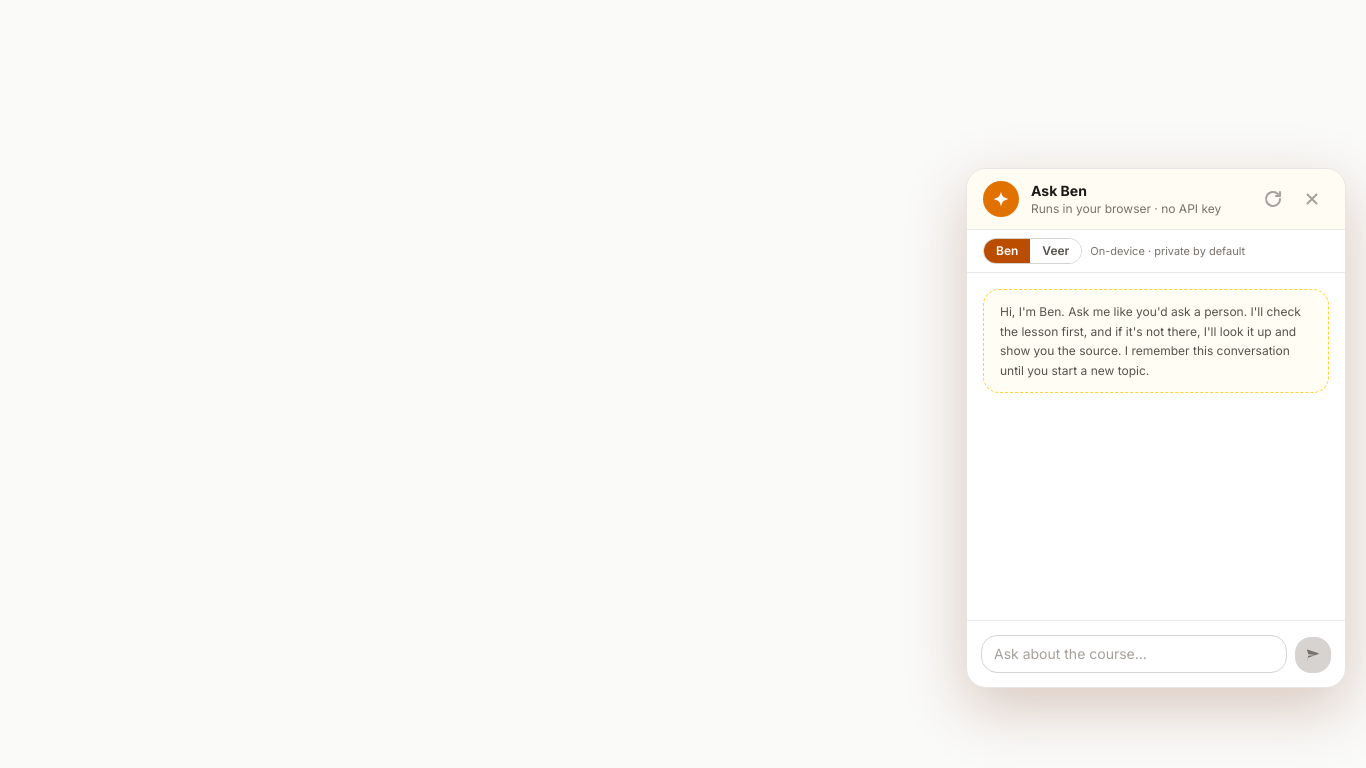
it: QaChatPanel Veer port (Manifest 2) › H3: a signed-in Veer answer streams with citations in the panel
Click the button with aria-label "Ask Veer": coordinates (1056, 251) [1030,239,1081,263]
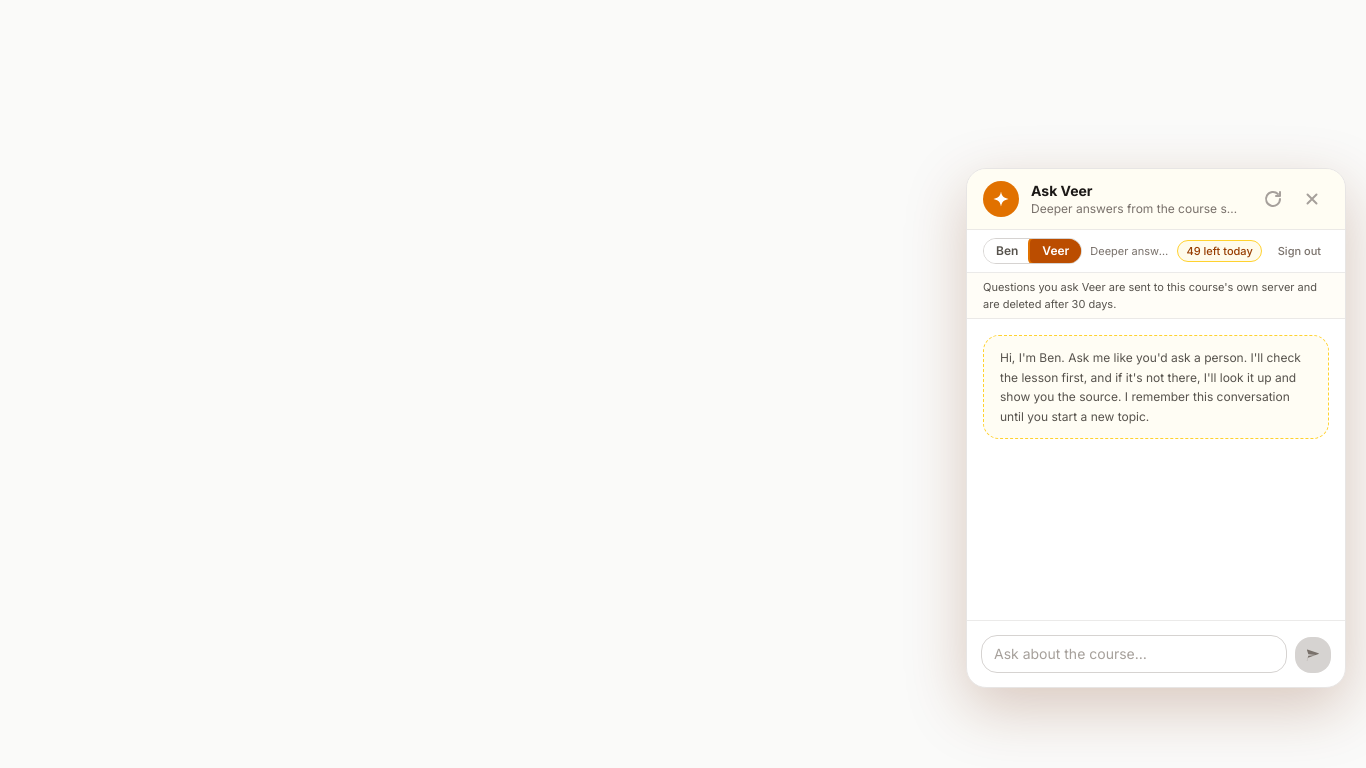
In the text box labelled "Ask about the course": coordinates (1134, 654) [981,635,1287,673], type "What is the CAP theorem?"
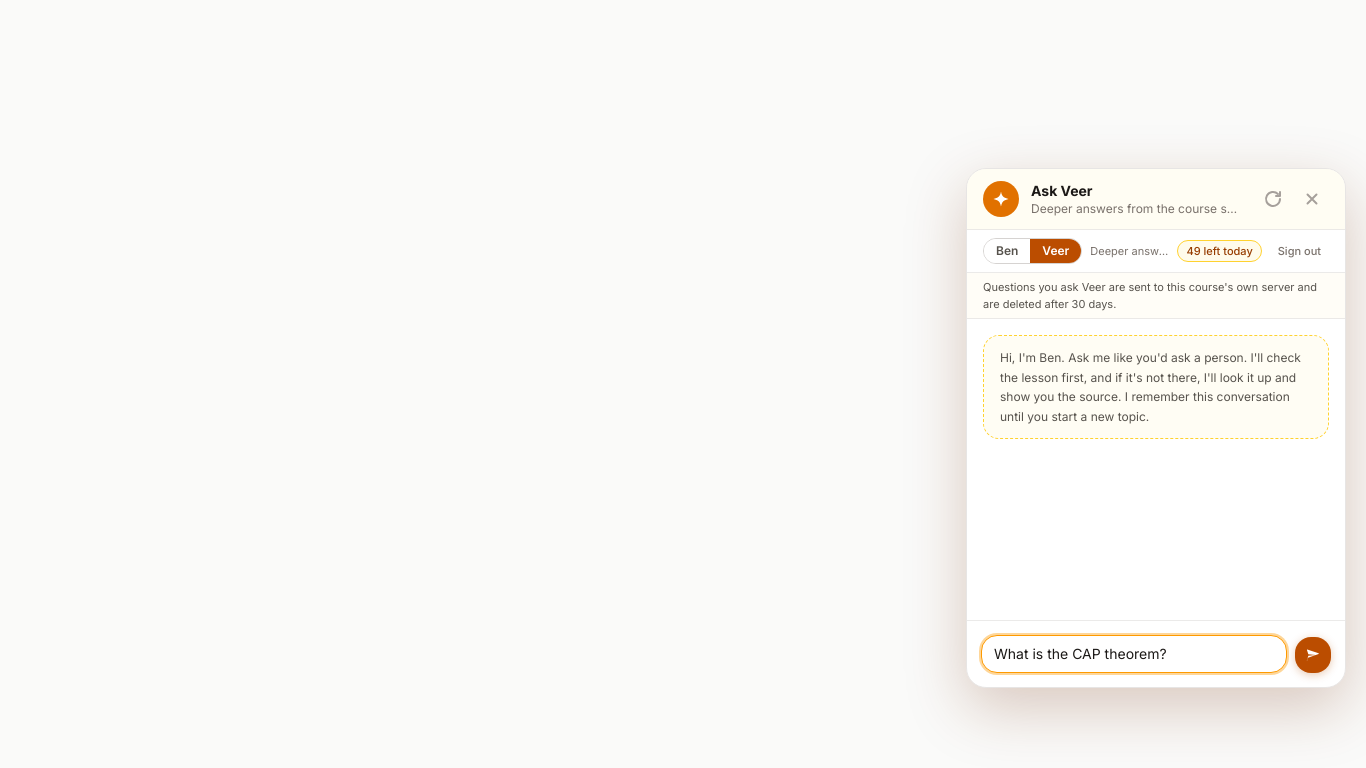
Click the button named "Send message": coordinates (1313, 655) [1295,637,1331,673]
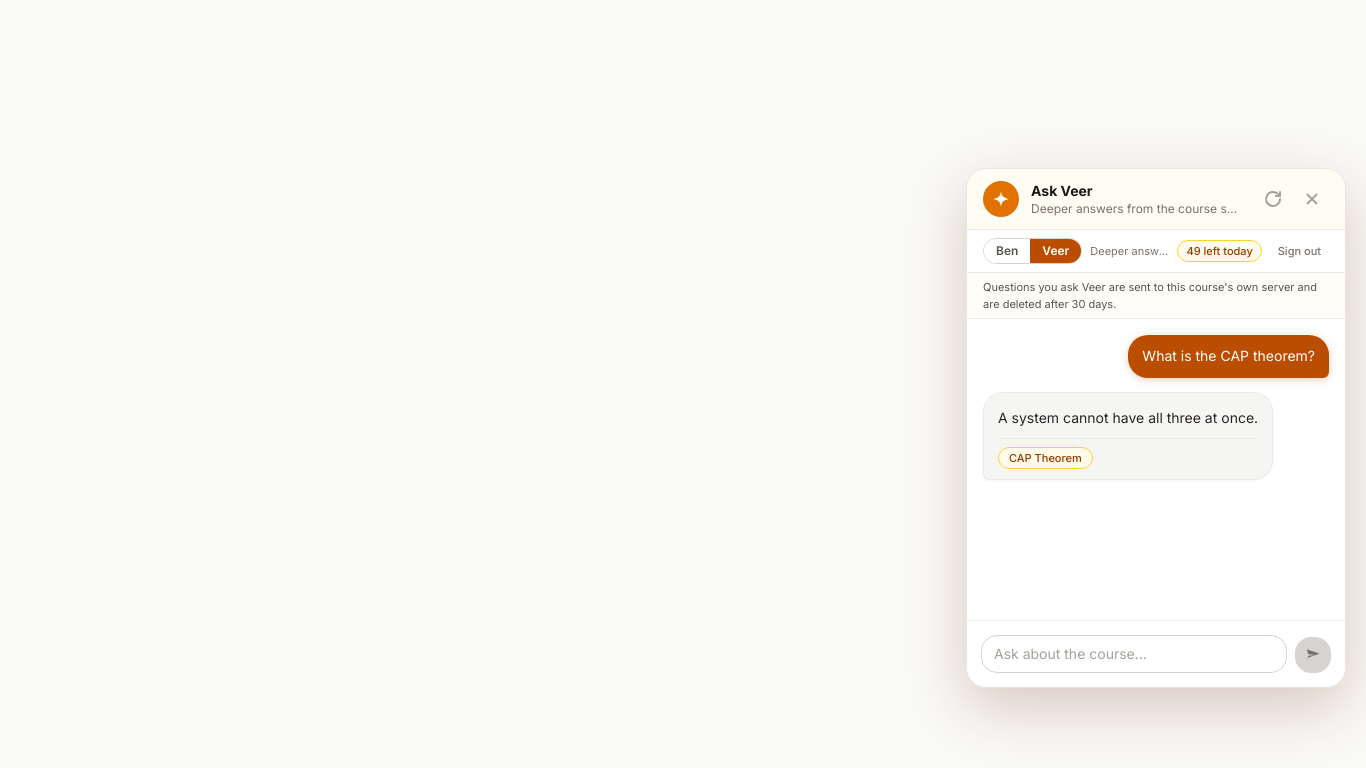
Check: the text "A system cannot have all three at once." is shown, box [998,407,1258,430]
Check: the link "CAP Theorem" is shown, box [998,446,1093,469]
